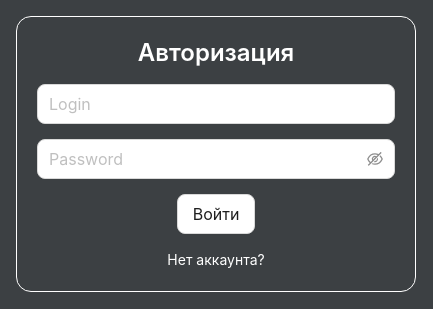
LoginPage › switches to register form
Click the text "Нет аккаунта?": [216, 260] box x1=167 y1=249 x2=265 y2=271
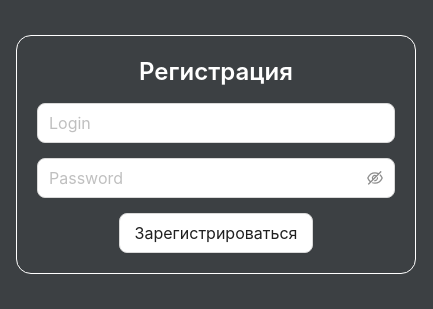
expect the heading "Регистрация" is shown: met, box x1=139 y1=56 x2=293 y2=88
expect the text "Зарегистрироваться" is shown: met, box x1=135 y1=222 x2=297 y2=242
